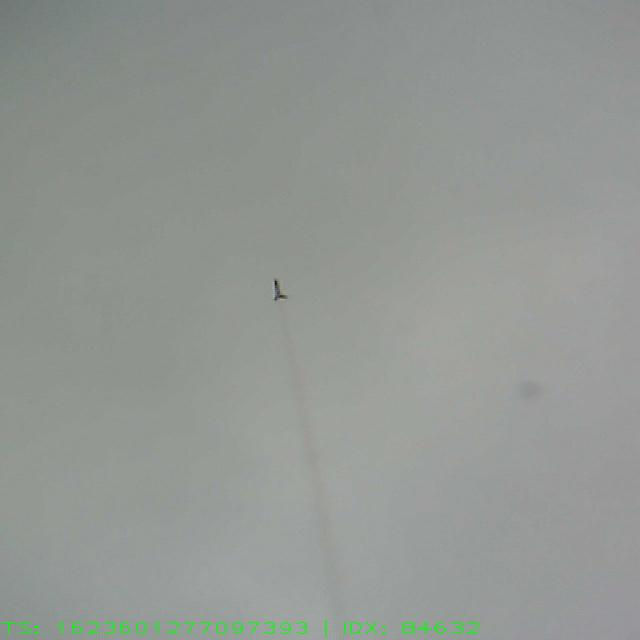Rocket: (272, 277, 288, 301)
